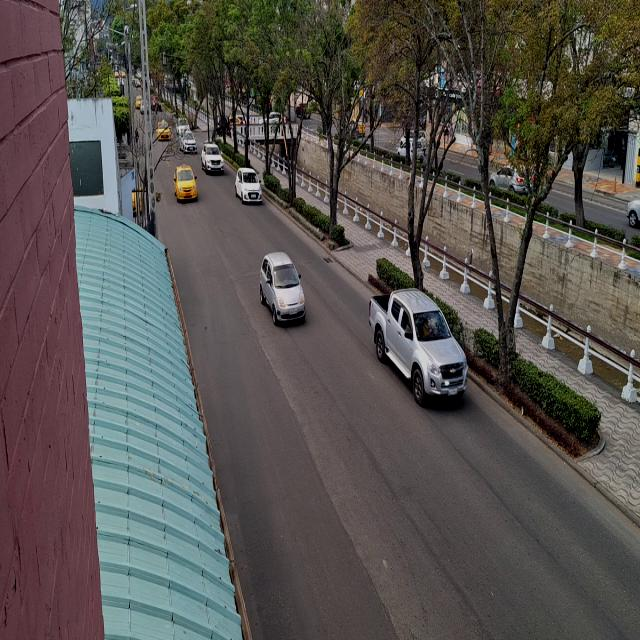CMT: (370, 290, 468, 406)
SED: (262, 257, 308, 326), (232, 162, 266, 214), (169, 163, 200, 209)
SUV: (202, 144, 224, 174)
